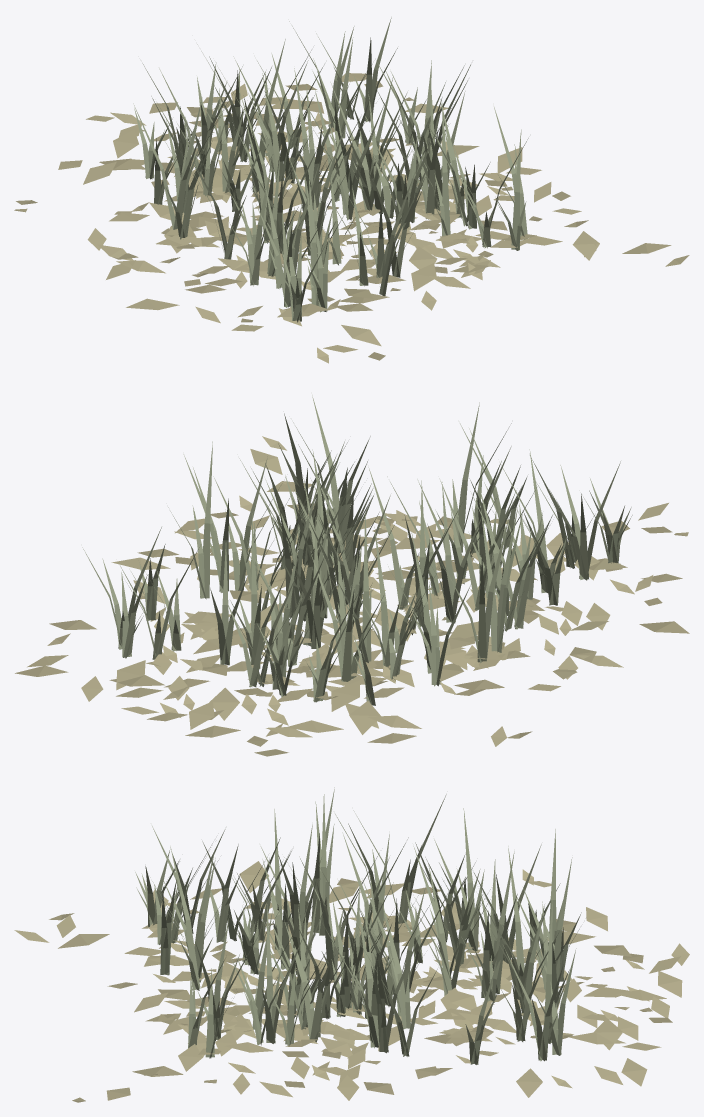
Rendered from AE_C04_IndoorGrowth.fbx.
3 renders of one model, top to bottom at view 1: azimuth 30°, elevation 25°; view 2: azimuth 150°, elevation 25°; view 3: azimuth 270°, elevation 25°, orthographic. The views are drawn at different scales.
Parts seen in each view (by area): view 1: AE_C04_IndoorGrowth_LOD0; view 2: AE_C04_IndoorGrowth_LOD0; view 3: AE_C04_IndoorGrowth_LOD0.
Boxes of the visible parts, left/top/right/bottom form: AE_C04_IndoorGrowth_LOD0: left=14, top=17, right=689, bottom=363; AE_C04_IndoorGrowth_LOD0: left=15, top=395, right=689, bottom=756; AE_C04_IndoorGrowth_LOD0: left=14, top=787, right=689, bottom=1102.
Size of what is drawn, in the model's own units: 223 by 55.07 by 263.
